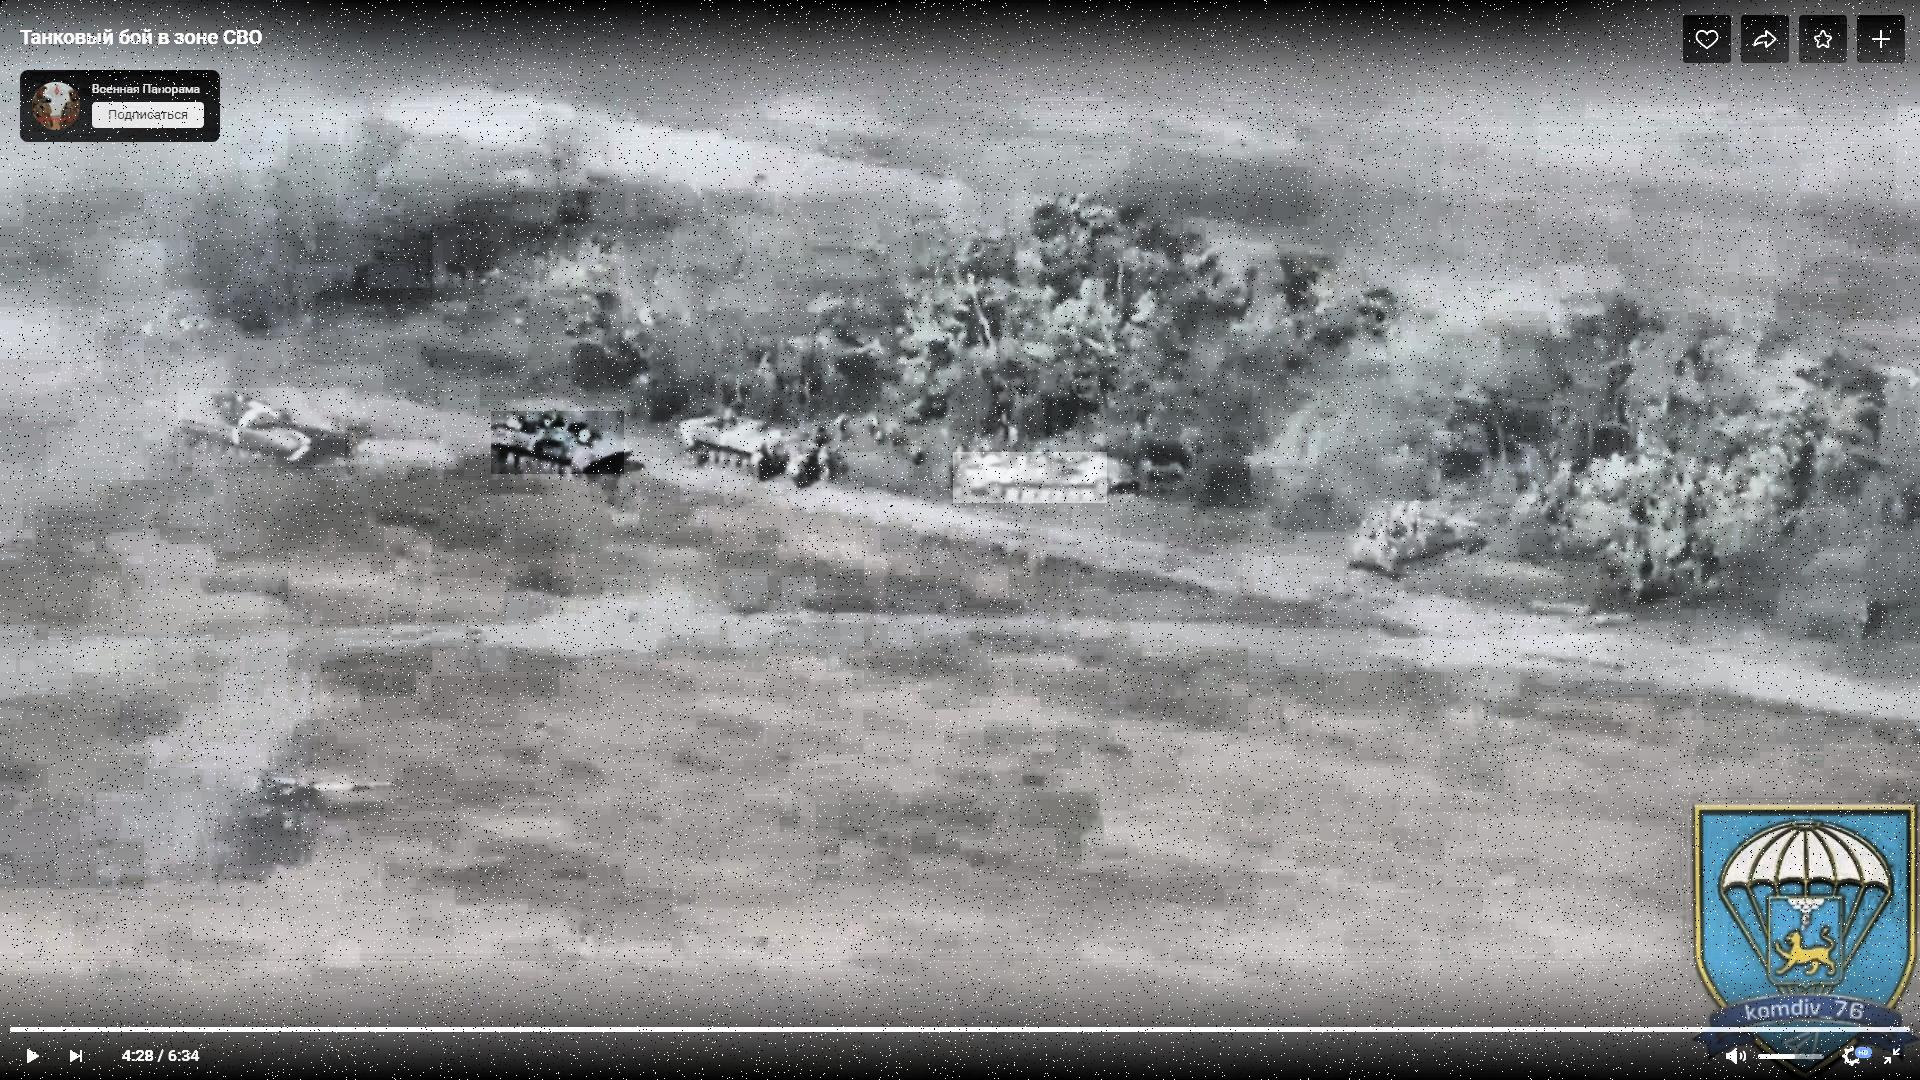military-vehicle: (178, 388, 345, 467), (1346, 501, 1482, 575), (682, 404, 796, 481), (492, 411, 625, 475), (953, 452, 1106, 504)
